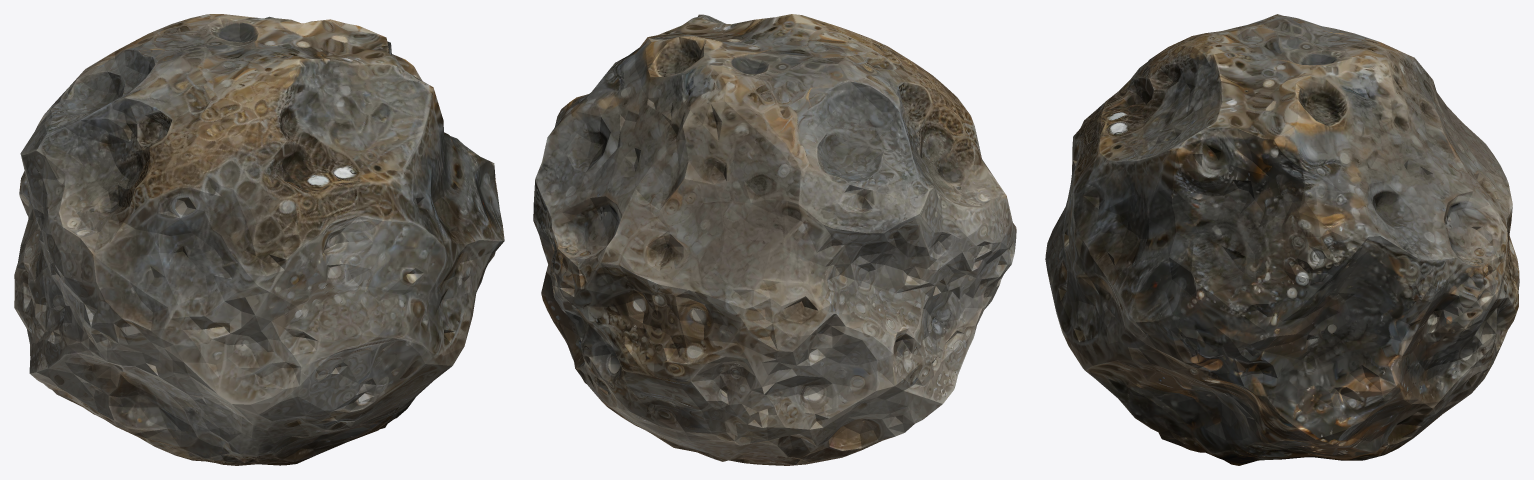
The model's file is meteorito+3D.glb.
The picture shows the model from 3 angles, left to right: view 1: azimuth 30°, elevation 25°; view 2: azimuth 150°, elevation 25°; view 3: azimuth 270°, elevation 25°; orthographic projection. The views are drawn at different scales.
Parts seen in each view (by area): view 1: tripo_node_358984e9-8bca-4a6a-8dc2-01bbe08f0def; view 2: tripo_node_358984e9-8bca-4a6a-8dc2-01bbe08f0def; view 3: tripo_node_358984e9-8bca-4a6a-8dc2-01bbe08f0def.
Boxes of the visible parts, <box> form: tripo_node_358984e9-8bca-4a6a-8dc2-01bbe08f0def: <box>14,14,504,465</box>; tripo_node_358984e9-8bca-4a6a-8dc2-01bbe08f0def: <box>533,14,1016,465</box>; tripo_node_358984e9-8bca-4a6a-8dc2-01bbe08f0def: <box>1045,14,1519,465</box>.
Size of the model in its own units: 0.9988 by 0.8985 by 0.9913.
1 material, 1 textured.
